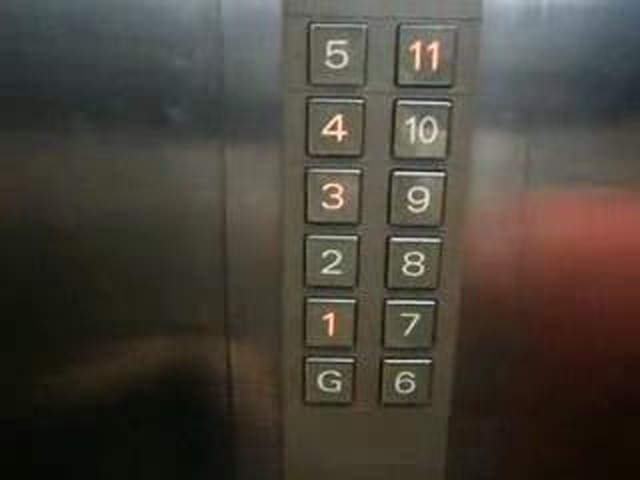1: (300, 296, 359, 353)
10: (393, 97, 452, 164)
11: (393, 21, 459, 91)
2: (300, 232, 362, 290)
3: (303, 165, 364, 229)
4: (305, 96, 367, 160)
5: (307, 21, 369, 89)
6: (378, 356, 434, 409)
7: (383, 297, 439, 353)
8: (382, 234, 441, 292)
9: (388, 171, 446, 230)
G: (299, 353, 359, 407)
